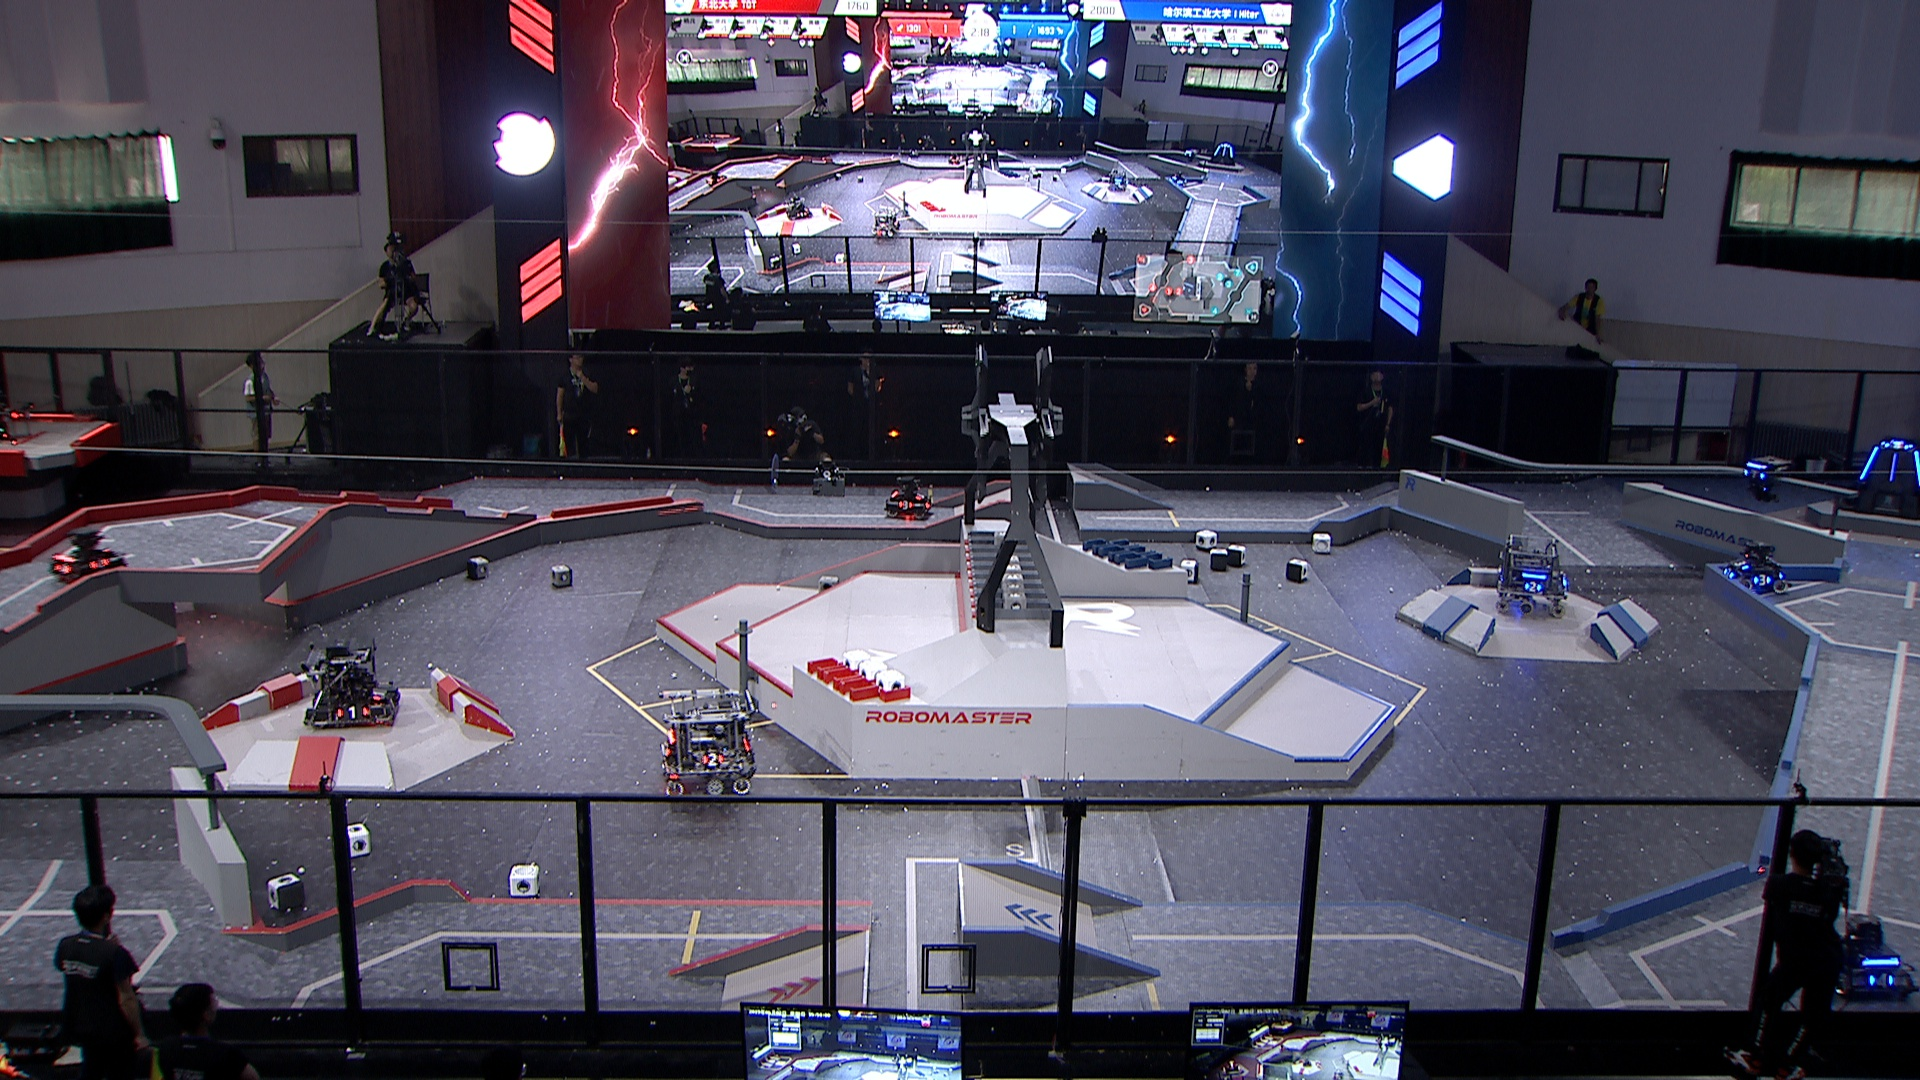armor: (1858, 444, 1882, 480), (334, 704, 371, 719), (1866, 971, 1894, 989), (1908, 447, 1920, 488), (1882, 438, 1912, 454), (1884, 451, 1899, 484), (700, 750, 727, 767), (1741, 465, 1768, 481), (1750, 572, 1774, 588), (88, 555, 112, 570), (1524, 579, 1543, 597), (897, 496, 916, 513), (51, 559, 71, 576), (1730, 555, 1751, 571), (384, 694, 401, 711), (371, 684, 386, 702), (1721, 564, 1738, 580), (659, 740, 673, 757), (911, 489, 927, 502)
base: (1832, 434, 1920, 522)
car: (655, 683, 760, 800), (301, 637, 401, 733), (1813, 913, 1917, 1001), (1491, 533, 1572, 618), (44, 524, 131, 589), (1717, 538, 1789, 604), (884, 472, 936, 524)
ignore: (870, 204, 905, 240), (1207, 138, 1237, 167), (783, 195, 816, 222), (1105, 166, 1130, 195), (703, 167, 731, 190), (1168, 167, 1191, 189), (1182, 144, 1200, 162)
watcher: (1735, 447, 1793, 504)
